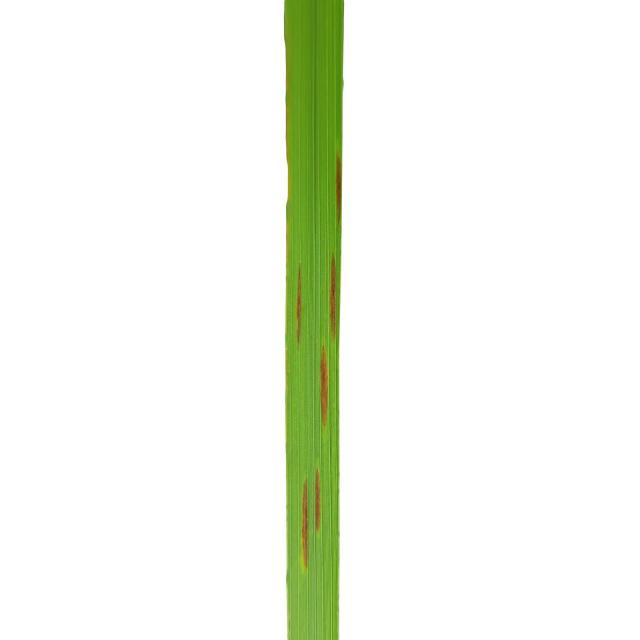Narrow brown: (216, 0, 462, 639)
